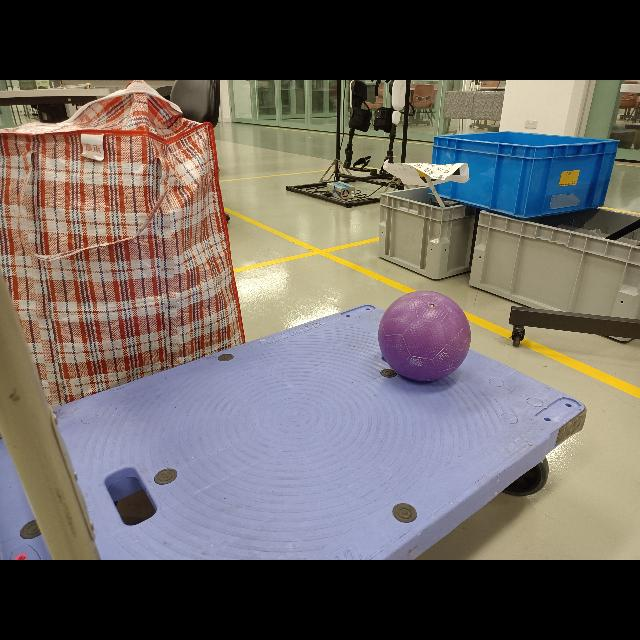P: (379, 290, 468, 390)
